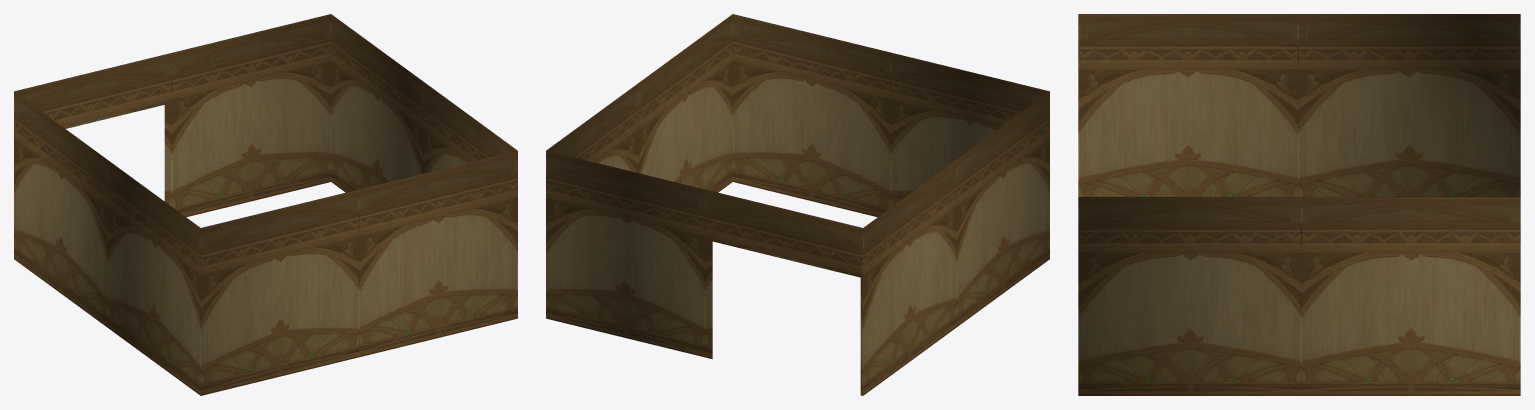
File: Homeworld_Interior_Xm_Room_L_Filling_01_Vo.fbx
The picture shows the model from 3 angles, left to right: view 1: azimuth 30°, elevation 25°; view 2: azimuth 150°, elevation 25°; view 3: azimuth 270°, elevation 25°; orthographic projection. The views are drawn at different scales.
Visible parts, largest first — view 1: Homeworld_Interior_Xm_Room_L_Filling_01_Vo; view 2: Homeworld_Interior_Xm_Room_L_Filling_01_Vo; view 3: Homeworld_Interior_Xm_Room_L_Filling_01_Vo.
Boxes of the visible parts, x1,y1,x2,y2 form: Homeworld_Interior_Xm_Room_L_Filling_01_Vo: (14,14,517,395); Homeworld_Interior_Xm_Room_L_Filling_01_Vo: (546,14,1049,395); Homeworld_Interior_Xm_Room_L_Filling_01_Vo: (1078,14,1520,395).
Size of the model in its own units: 9.84 by 4.98 by 10.03.
